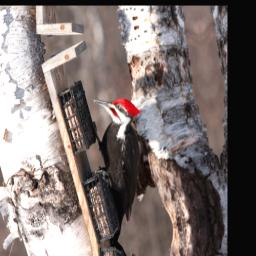Woodpecker: (83, 86, 159, 228)
